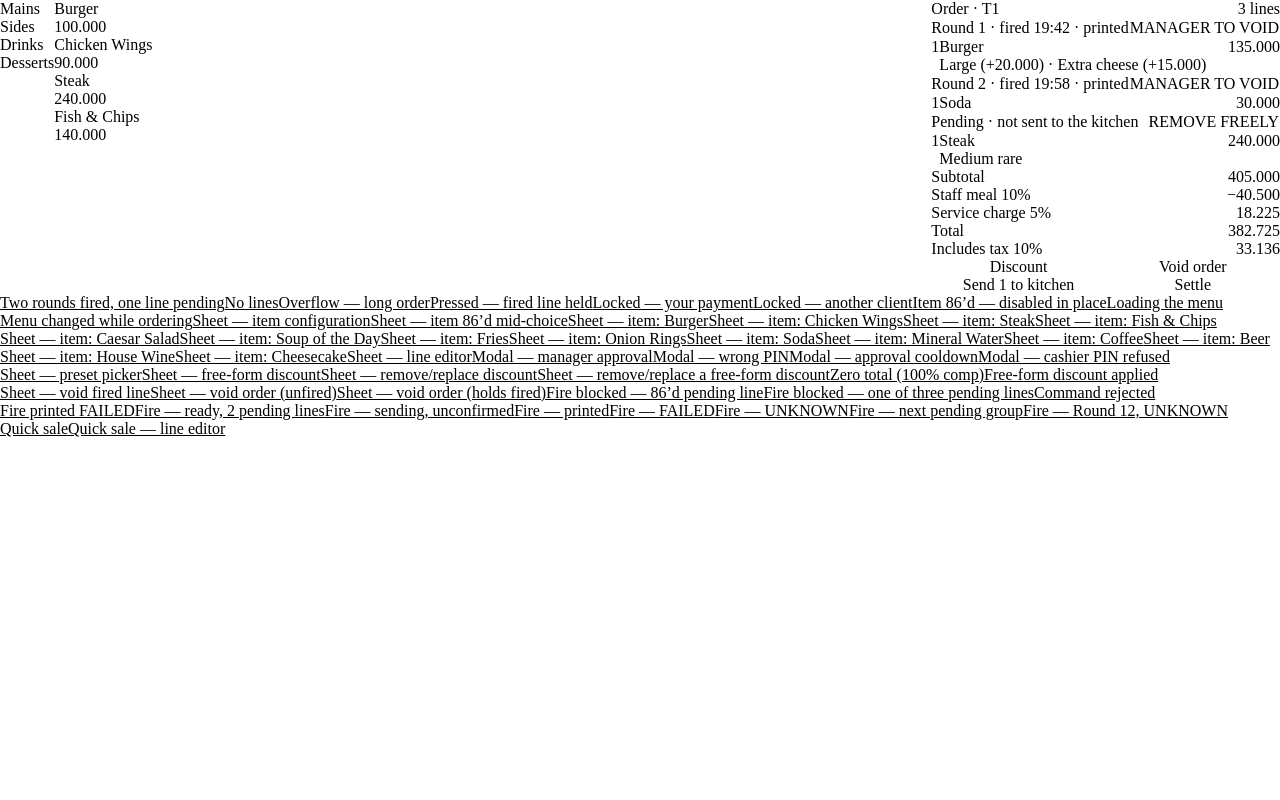
Test: the press › B: after Add from an item sheet the new pending line is brought into view
What coordinates should you click on to do the following:
click the button with class "menu-category" showing "Sides"
I would click on:
 (27, 27)
Its box is [0, 18, 54, 36].
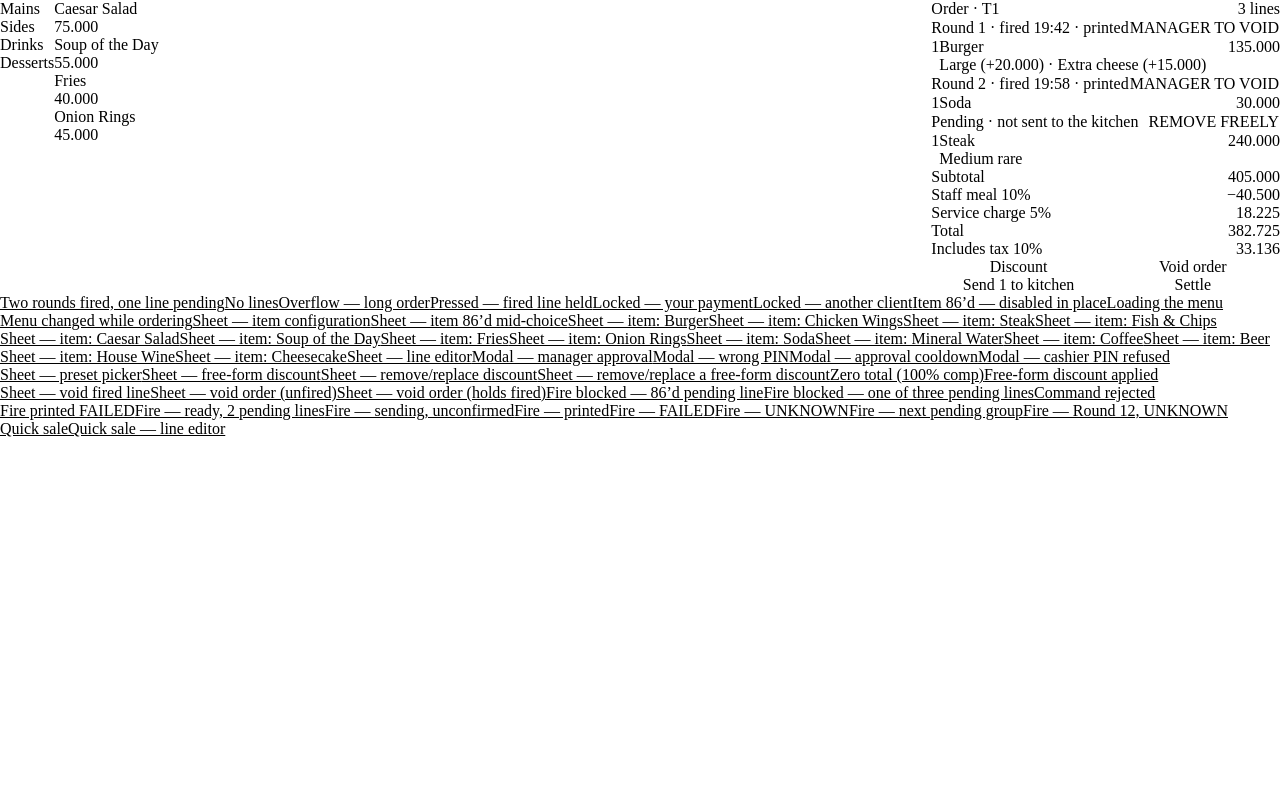
What coordinates should you click on to do the following:
click the button "Fries 40.000"
I would click on:
 (70, 80)
Its box is [54, 72, 931, 108].
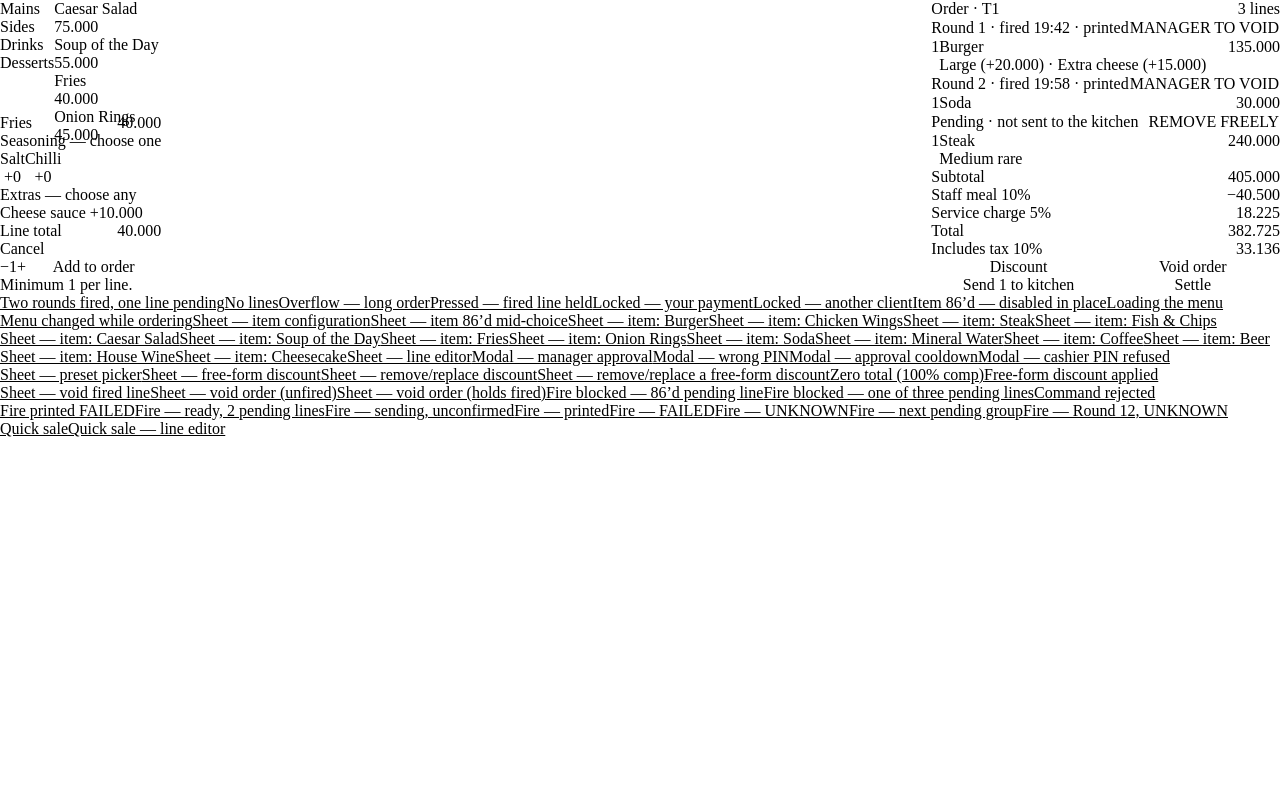
What coordinates should you click on to do the following:
click the button "Add to order"
I would click on:
 (94, 267)
Its box is [26, 258, 161, 276].
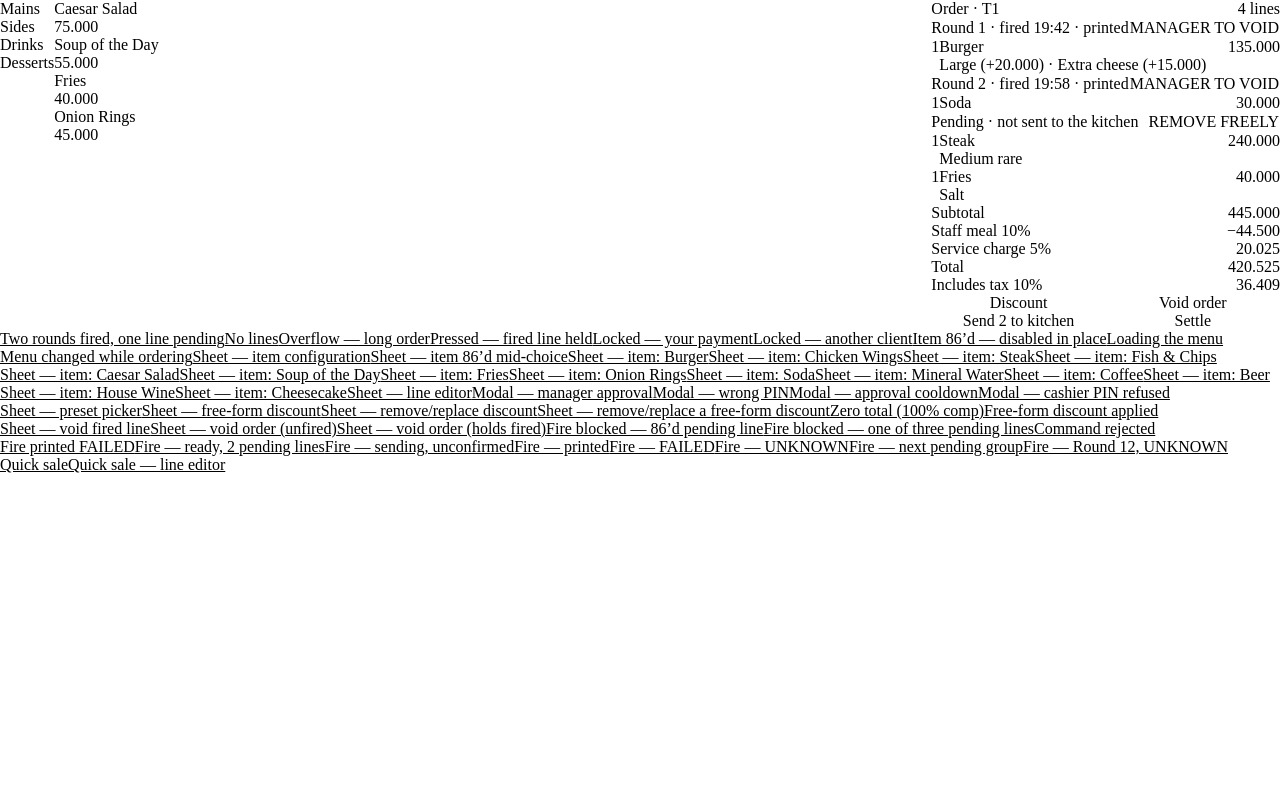
Result: the list item with class "order-line" shows "Fries" at [931, 168, 1279, 204]
